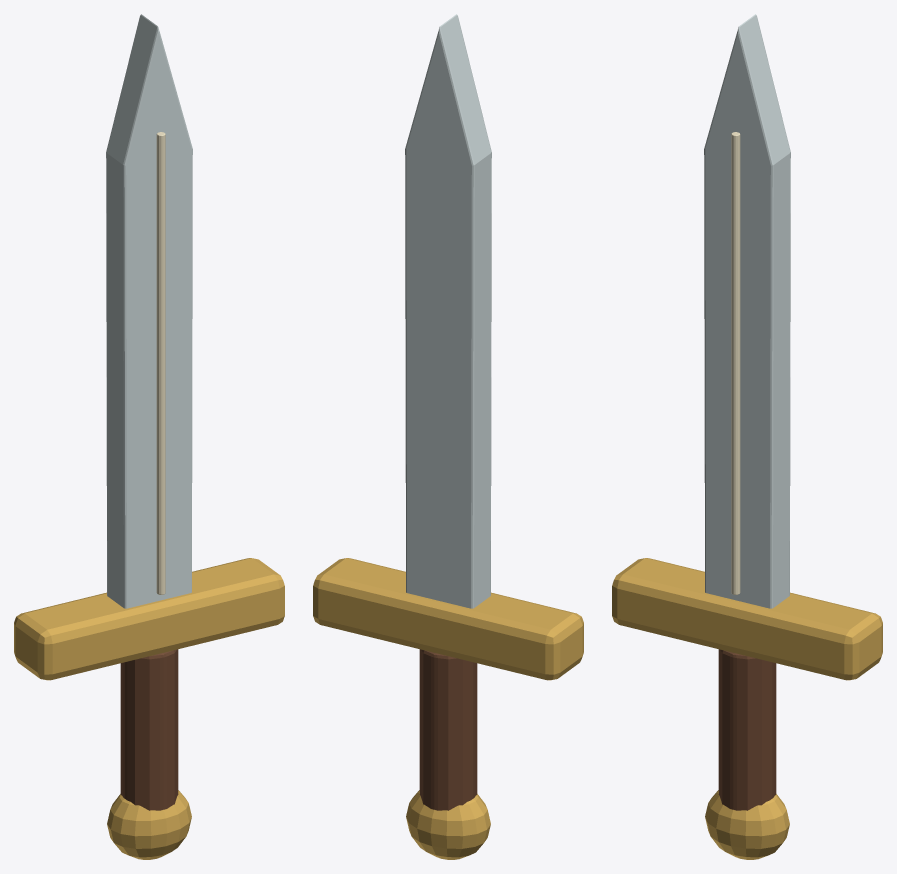
Rendered from P024_foam_sword.glb.
3 renders of one model, left to right at view 1: azimuth 30°, elevation 25°; view 2: azimuth 150°, elevation 25°; view 3: azimuth 330°, elevation 25°, orthographic.
Visible parts, largest first — view 1: P024_foam_blade_001, P024_crossguard_003, P024_grip_004, P024_center_ridge_002, P024_pommel_005; view 2: P024_foam_blade_001, P024_crossguard_003, P024_grip_004, P024_pommel_005; view 3: P024_foam_blade_001, P024_crossguard_003, P024_grip_004, P024_center_ridge_002, P024_pommel_005.
Part boxes in pixels (<box>): P024_foam_blade_001: <box>106,14,192,608</box>; P024_crossguard_003: <box>14,558,284,680</box>; P024_grip_004: <box>120,649,178,810</box>; P024_center_ridge_002: <box>156,132,165,594</box>; P024_pommel_005: <box>107,790,191,859</box>; P024_foam_blade_001: <box>405,14,491,608</box>; P024_crossguard_003: <box>313,558,583,680</box>; P024_grip_004: <box>419,649,477,810</box>; P024_pommel_005: <box>406,790,490,859</box>; P024_foam_blade_001: <box>704,14,790,608</box>; P024_crossguard_003: <box>612,558,882,680</box>; P024_grip_004: <box>718,649,776,810</box>; P024_center_ridge_002: <box>731,132,740,594</box>; P024_pommel_005: <box>705,790,789,859</box>.
Size of the model in its own units: 0.255 by 0.8279 by 0.064.
